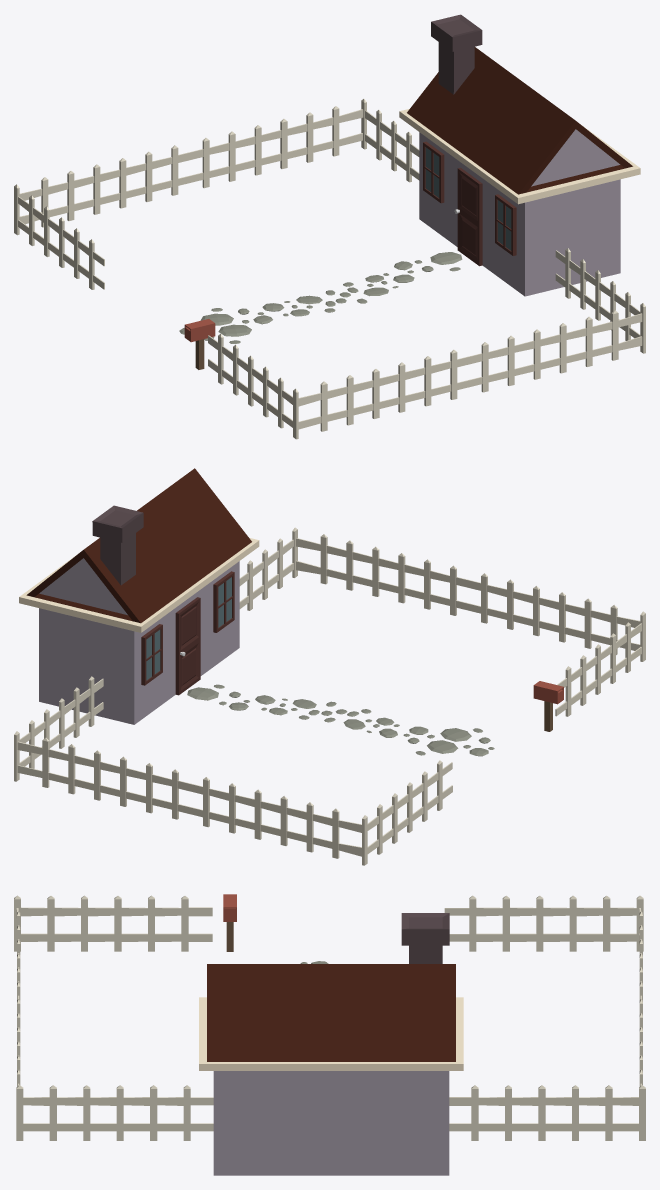
File: Street_HouseKit.fbx
3 renders of one model, top to bottom at view 1: azimuth 30°, elevation 25°; view 2: azimuth 150°, elevation 25°; view 3: azimuth 270°, elevation 25°, orthographic. The views are drawn at different scales.
Parts seen in each view (by area): view 1: house, Fence.001, Rocks, Chimney, Door, MailBox, WindowFrame.001, WindowFrame; view 2: house, Fence.001, Rocks, Chimney, Door, MailBox, WindowFrame.001, WindowFrame; view 3: house, Fence.001, Chimney, MailBox.
Boxes of the visible parts, x1,y1,x2,y2 form: house: [399, 47, 640, 296]; Fence.001: [14, 99, 645, 439]; Rocks: [179, 252, 462, 343]; Chimney: [431, 14, 482, 94]; Door: [457, 167, 482, 266]; MailBox: [184, 319, 215, 369]; WindowFrame.001: [495, 194, 516, 255]; WindowFrame: [423, 141, 444, 203]; house: [19, 468, 259, 724]; Fence.001: [14, 527, 645, 865]; Rocks: [187, 684, 494, 756]; Chimney: [92, 505, 143, 585]; Door: [175, 597, 200, 695]; MailBox: [533, 681, 563, 731]; WindowFrame.001: [213, 571, 234, 632]; WindowFrame: [141, 624, 162, 685]; house: [199, 964, 463, 1175]; Fence.001: [14, 895, 645, 1140]; Chimney: [401, 913, 449, 963]; MailBox: [223, 894, 236, 951].
Bounding box in the file's own units: 8442 × 3600 × 9440.
